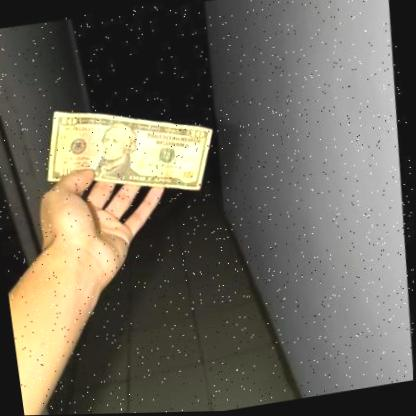ten-front: (38, 83, 226, 214)
